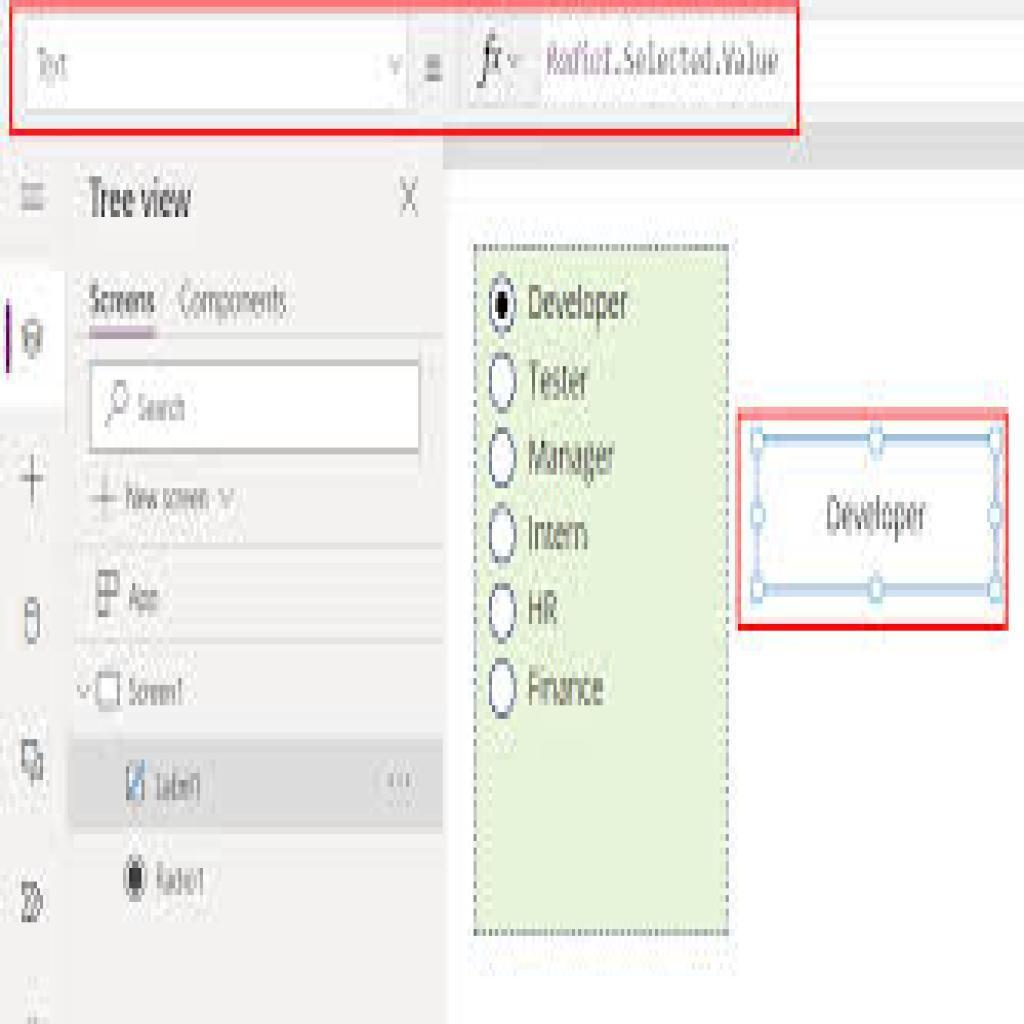dropdown: (22, 15, 411, 115), (72, 648, 214, 739)
icon: (12, 734, 59, 795), (14, 872, 51, 934), (15, 314, 54, 372), (88, 475, 125, 533), (118, 748, 152, 811), (101, 368, 133, 434), (89, 662, 125, 715), (95, 561, 125, 623), (14, 172, 55, 217), (15, 457, 49, 509)
input: (93, 356, 422, 454)
radio: (487, 651, 522, 732), (486, 264, 520, 342), (488, 493, 518, 578), (122, 837, 153, 917), (488, 344, 521, 415), (486, 577, 520, 645), (488, 422, 518, 499)
